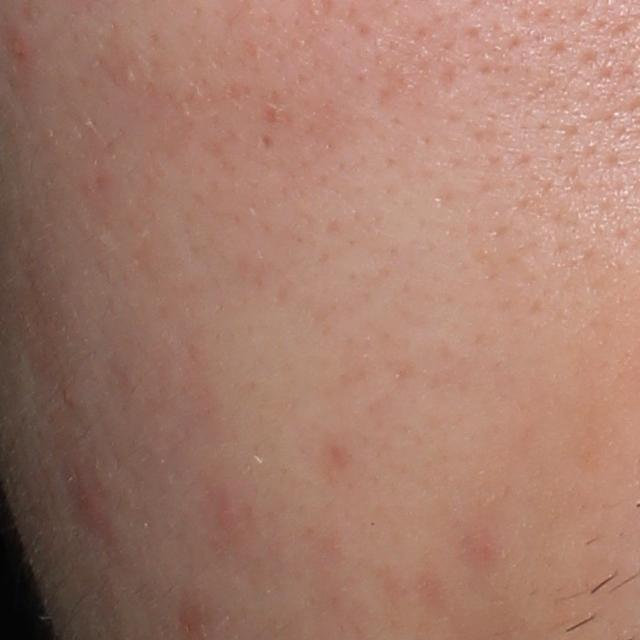papule: (70, 478, 101, 527), (9, 32, 29, 61)
